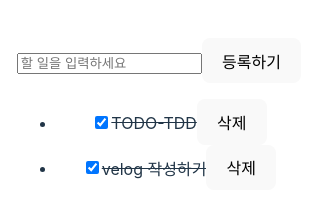
Scenario: create new todo
Step 1. Type "테스트 할일" into the field with placeholder "할 일을 입력하세요" → coordinates (109, 63), box [17, 53, 202, 74]
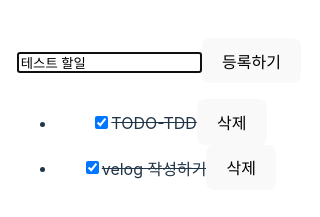
Step 2. Click the button "등록하기" → coordinates (252, 61), box [202, 38, 301, 83]
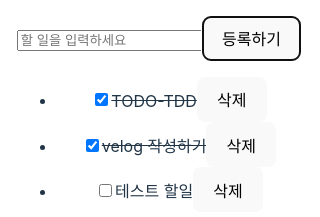
Result: the text "테스트 할일" is shown at [115, 181, 193, 201]
